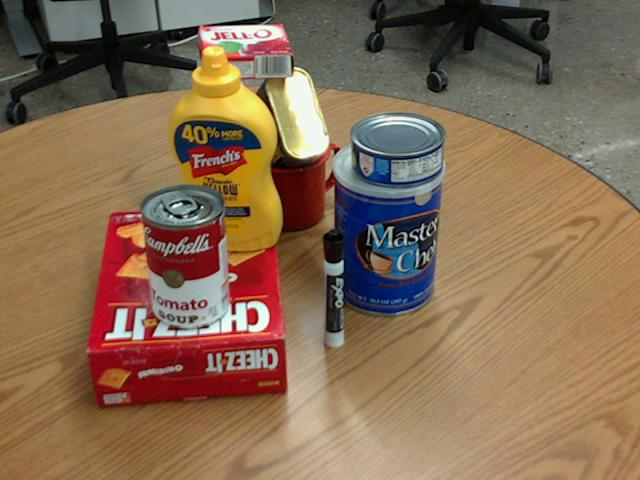cracker_box: (88, 205, 288, 405)
gelatin_box: (199, 25, 292, 80)
large_marker: (323, 229, 344, 347)
master_chef_can: (331, 135, 444, 315)
mug: (246, 128, 344, 229)
mustard_bottle: (166, 46, 280, 250)
potted_meat_can: (243, 68, 329, 184)
sugar_box: (198, 59, 248, 248)
tomato_soup_can: (140, 183, 229, 328)
tuna_fish_can: (349, 111, 445, 186)
